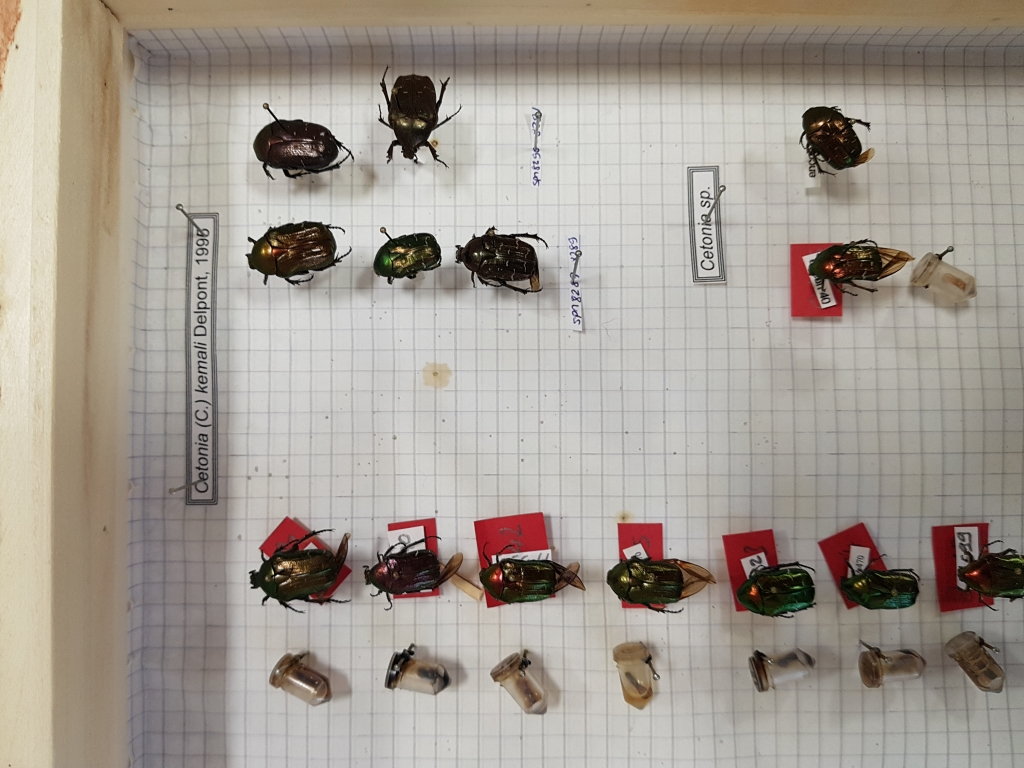Cetonia_kemali: (598, 551, 719, 624), (235, 217, 354, 290), (455, 219, 553, 301)
